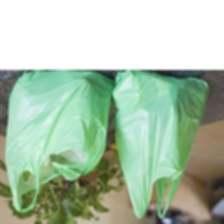plastic_bag: (2, 67, 116, 219), (111, 62, 217, 223)
